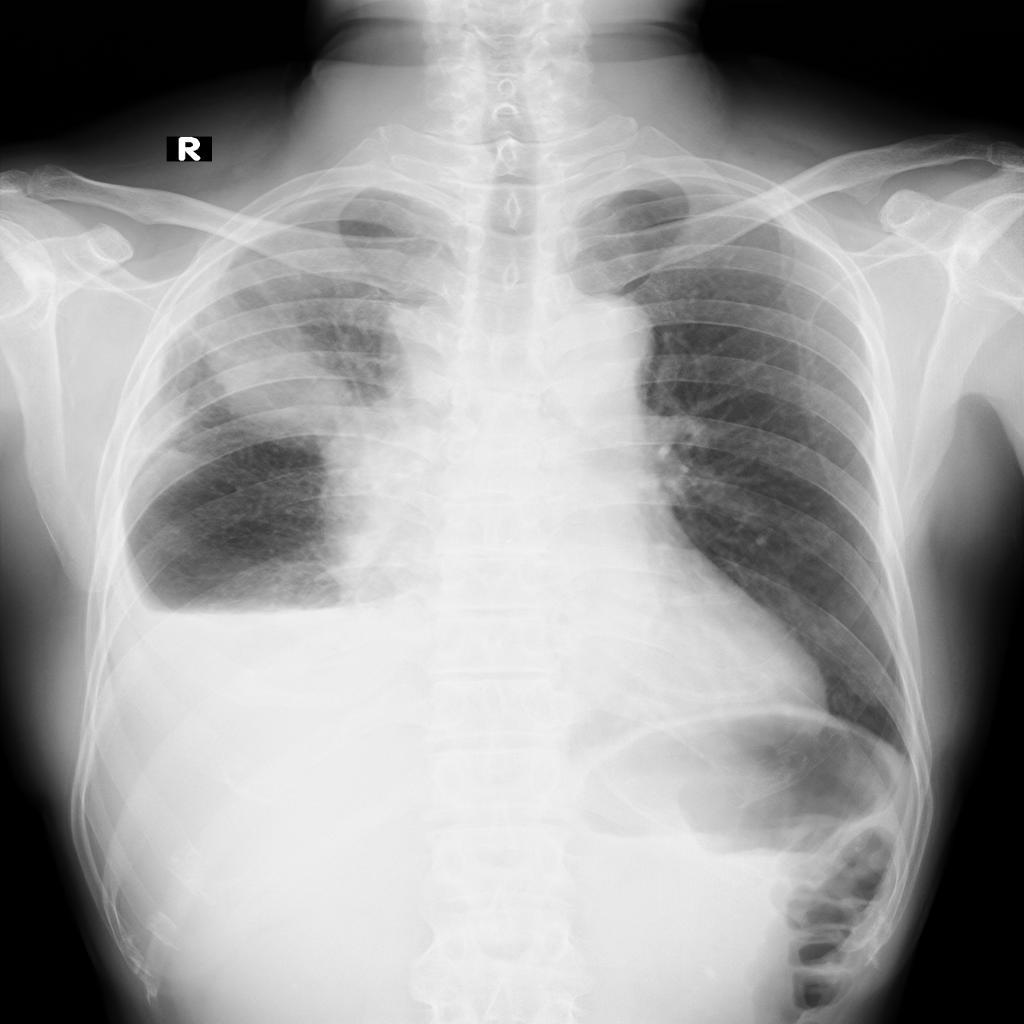Nodule: (200, 303, 359, 440)
